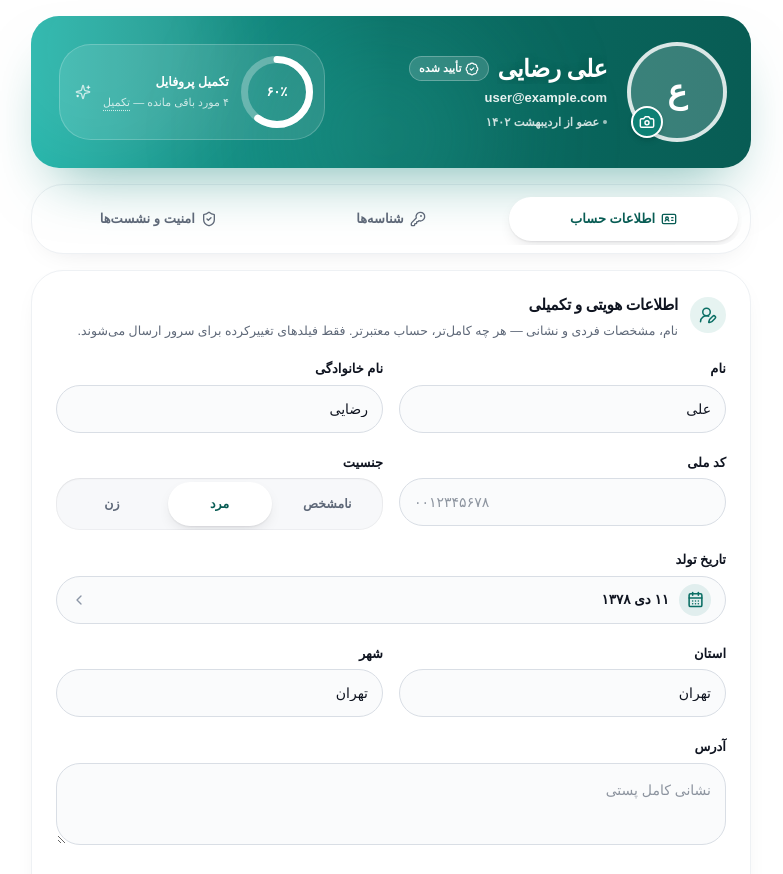
Test case: شناسه‌های ورود › کانالِ تأییدنشده «تأیید نشده» را نشان می‌دهد و CTA تأیید ارائه می‌کند
Expected: the heading "علی رضایی" is shown, x1=498 y1=53 x2=607 y2=84
What coordinates should you click on to do the following:
click the tab "شناسه‌ها"
I would click on:
 (391, 219)
Its box is x1=277 y1=197 x2=505 y2=241.
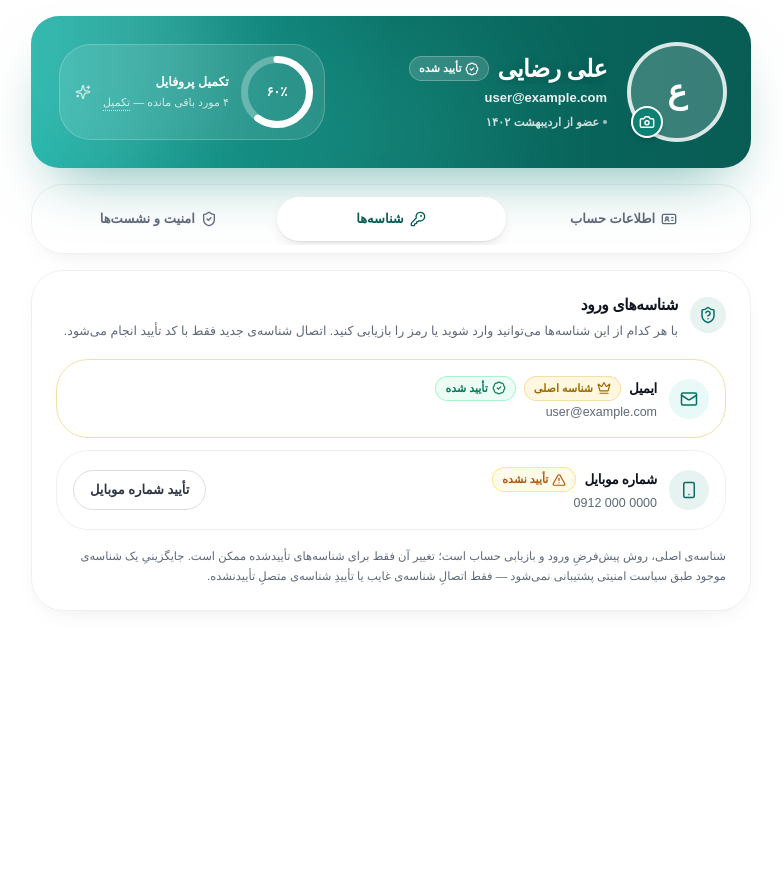
Now the text "تأیید نشده" is shown, box x1=492 y1=467 x2=576 y2=492
Now the button "تأیید شماره موبایل" is shown, box x1=73 y1=470 x2=206 y2=510
